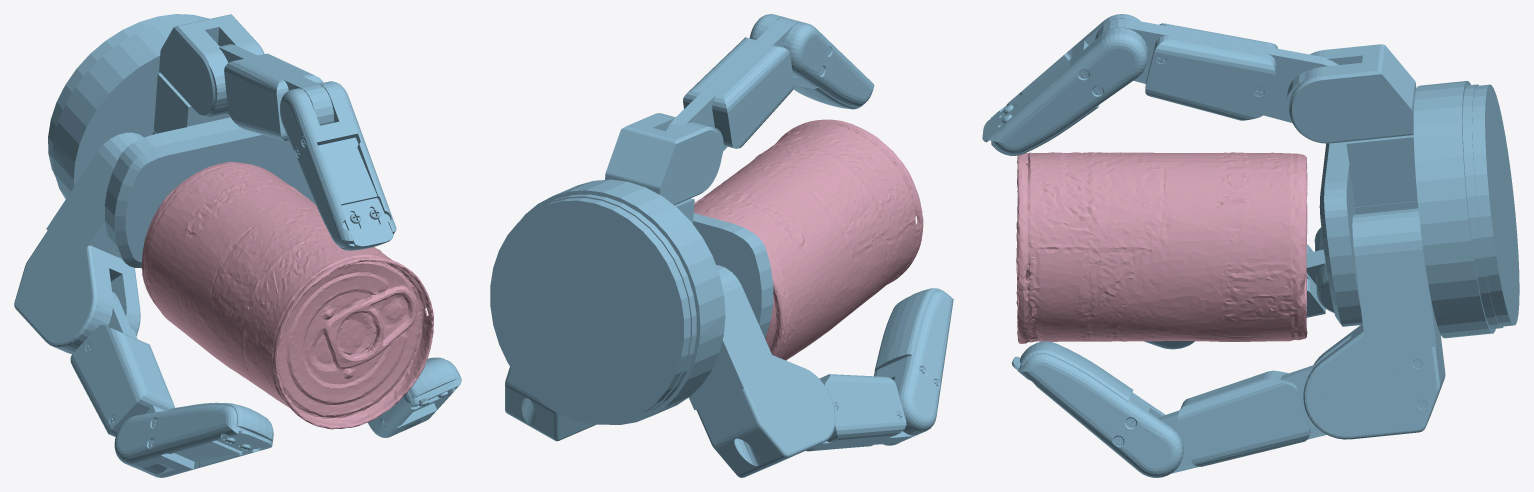
The picture shows the model from 3 angles, left to right: view 1: azimuth 30°, elevation 25°; view 2: azimuth 150°, elevation 25°; view 3: azimuth 270°, elevation 25°; orthographic projection. The views are drawn at different scales.
Visible parts, largest first — view 1: world, tomato_soup_can.stl; view 2: world, tomato_soup_can.stl; view 3: world, tomato_soup_can.stl.
Part boxes in pixels (bbox=[...]): world: bbox=[14, 14, 461, 477]; tomato_soup_can.stl: bbox=[141, 161, 433, 429]; world: bbox=[490, 14, 953, 477]; tomato_soup_can.stl: bbox=[693, 119, 923, 360]; world: bbox=[982, 14, 1519, 477]; tomato_soup_can.stl: bbox=[1016, 152, 1307, 343].
Bounding box in the file's own units: 0.1312 × 0.1549 × 0.1881.
